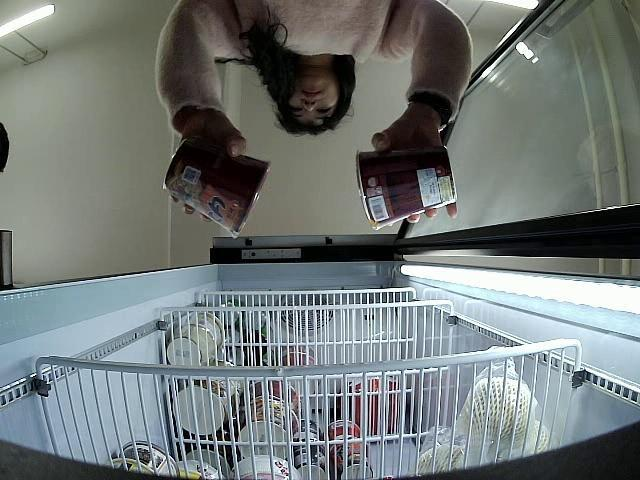06_nuguri_S: (164, 140, 269, 238), (356, 148, 456, 228)
